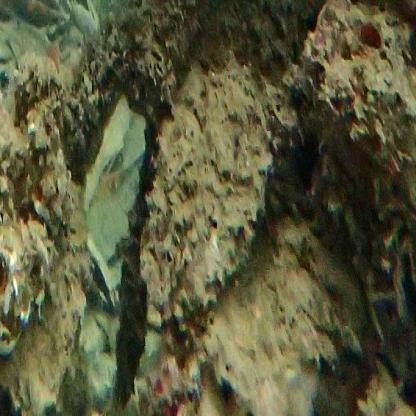Oyster-Closed: (146, 65, 270, 316), (0, 178, 88, 416), (0, 97, 68, 359)
Oyster-Open: (88, 239, 118, 319)
